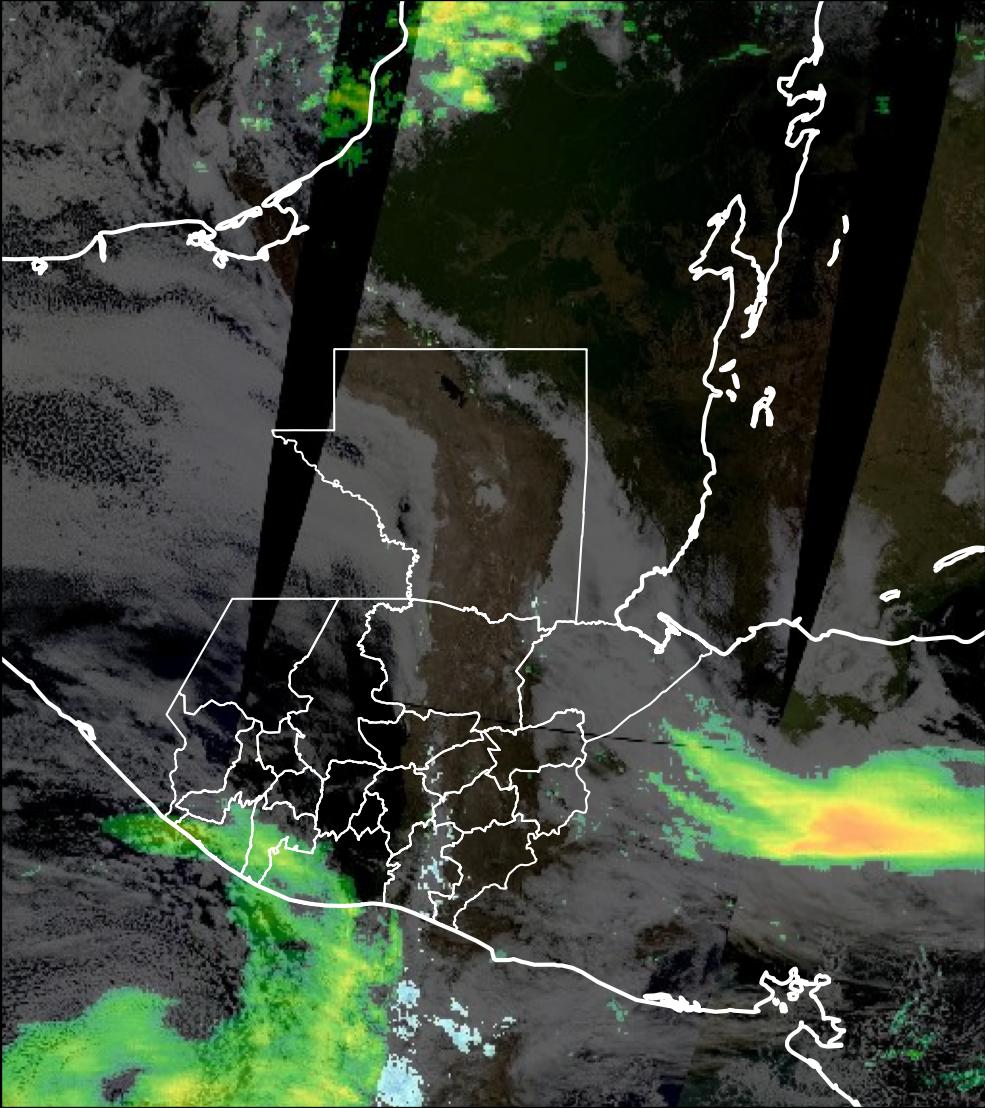precipitacion: (763, 774, 985, 876)
